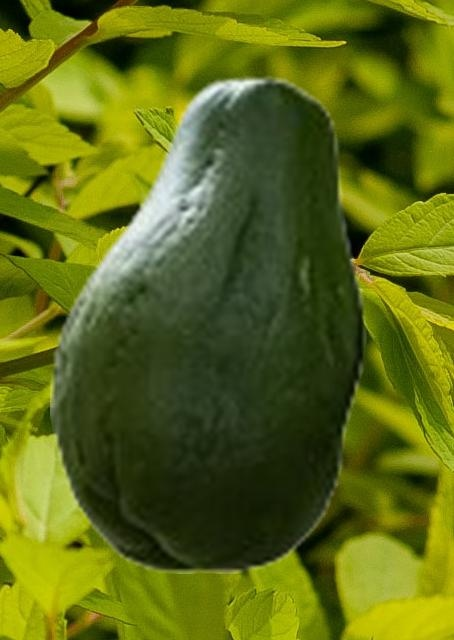sayote: (50, 75, 365, 572)
